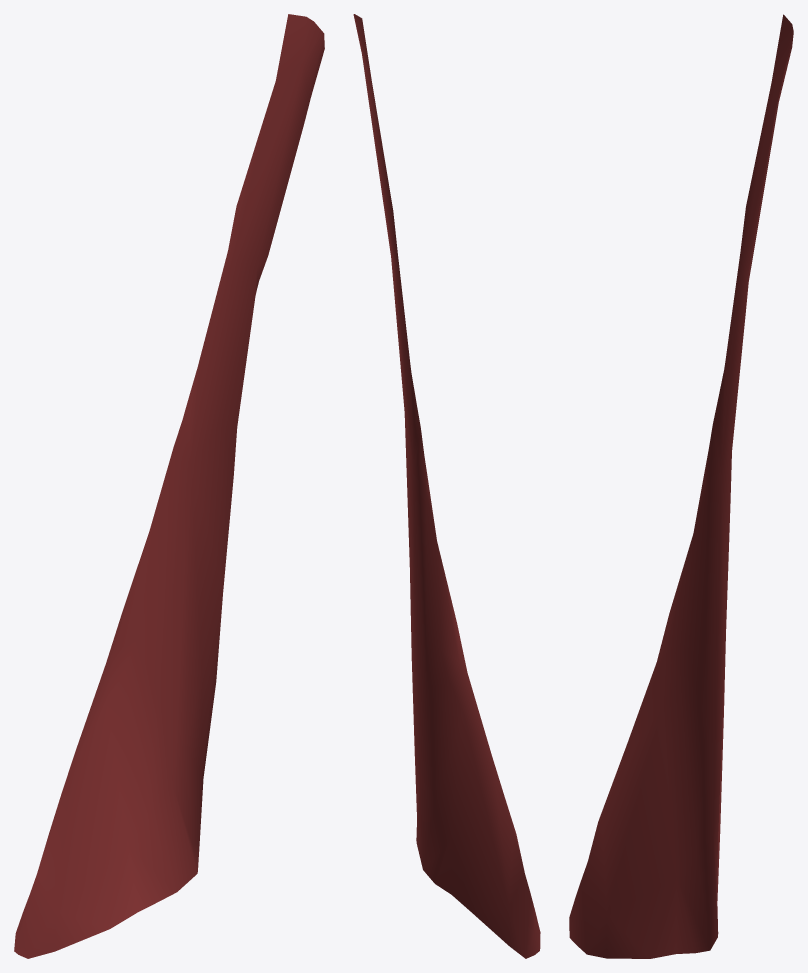
The model's file is medial-head-of-triceps-brachii-or.glb.
The picture shows the model from 3 angles, left to right: view 1: azimuth 30°, elevation 25°; view 2: azimuth 150°, elevation 25°; view 3: azimuth 330°, elevation 25°; orthographic projection. The views are drawn at different scales.
Visible parts, largest first — view 1: Medial head of triceps brachii.or; view 2: Medial head of triceps brachii.or; view 3: Medial head of triceps brachii.or.
Boxes of the visible parts, x1,y1,x2,y2 form: Medial head of triceps brachii.or: (14,14,324,958); Medial head of triceps brachii.or: (353,14,540,958); Medial head of triceps brachii.or: (569,14,793,958).
Size of the model in its own units: 0.056 by 0.1941 by 0.0227.
